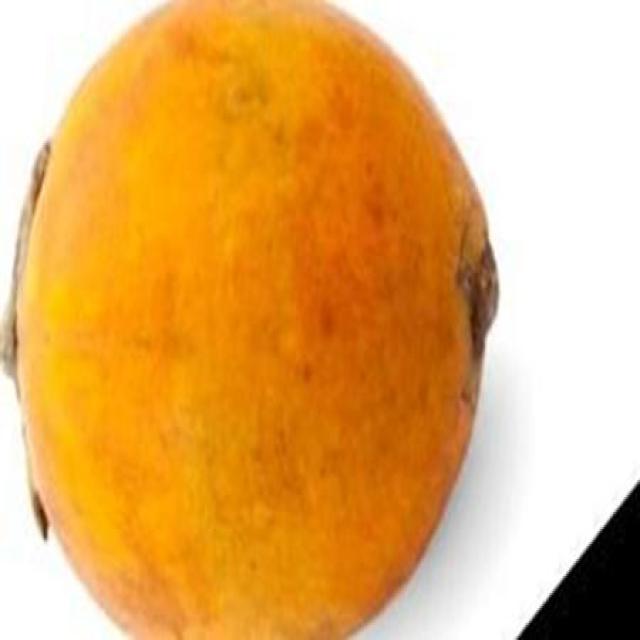good: (11, 0, 501, 638)
